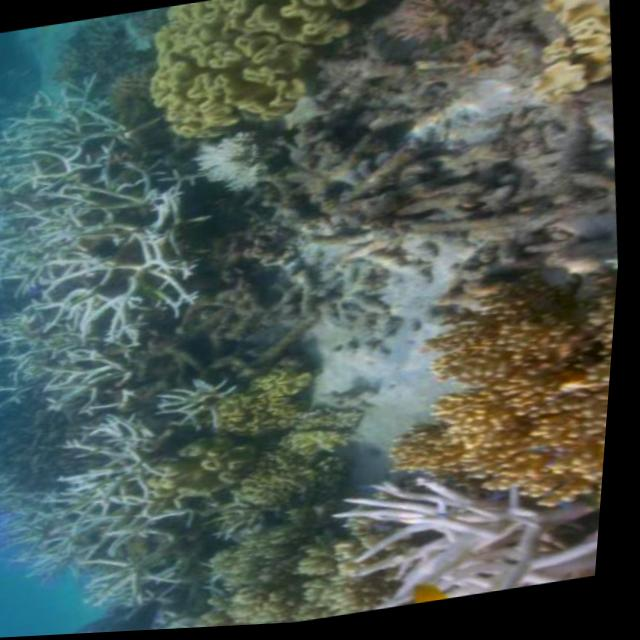Bleached Coral: (13, 62, 206, 536), (333, 456, 612, 614), (181, 118, 291, 212)
Healthy Coral: (190, 344, 349, 630), (426, 278, 622, 460)
